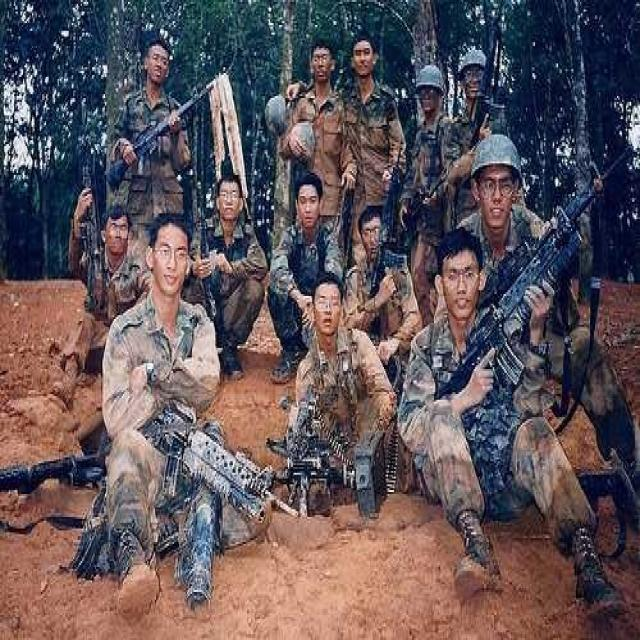Rifle: (446, 139, 632, 404), (141, 394, 316, 553), (95, 56, 200, 191)
